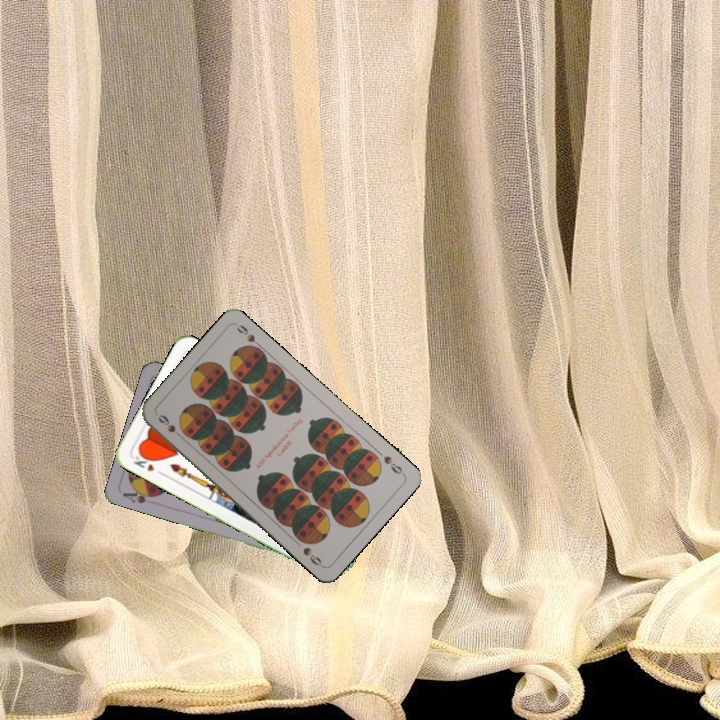HK: (129, 449, 166, 478)
S9: (153, 410, 186, 442), (379, 452, 407, 478)
SA: (119, 484, 161, 506)
